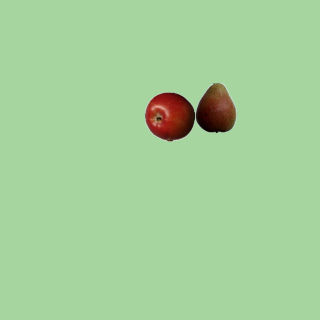Apple Braeburn: (144, 91, 194, 141)
Pear Forelle: (190, 82, 240, 132)
